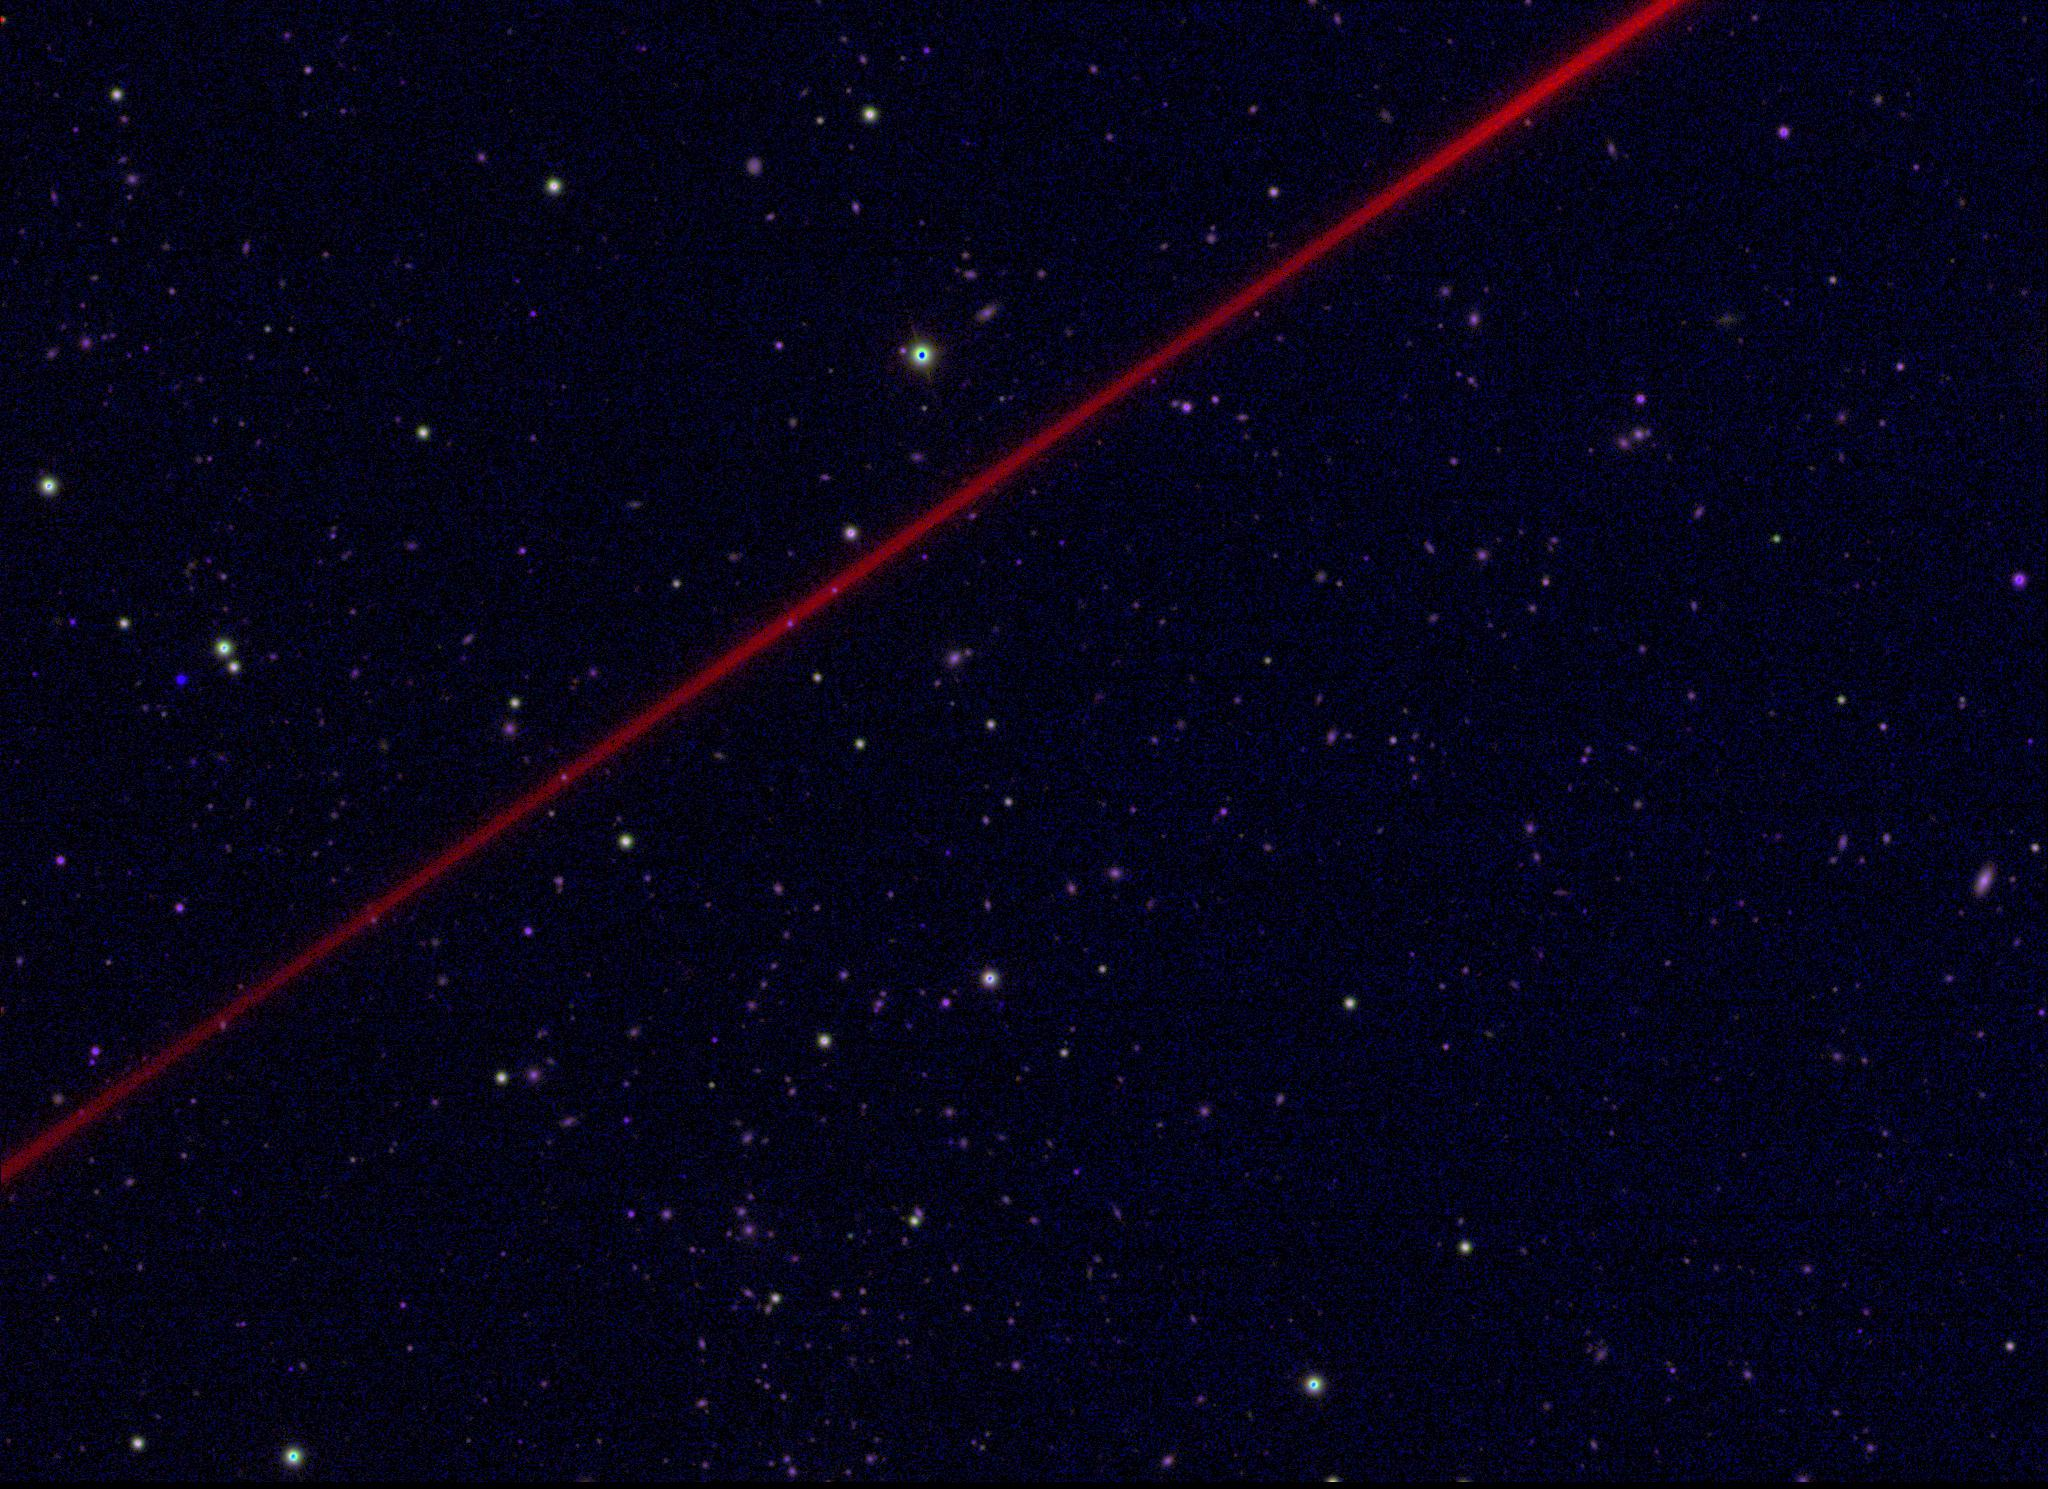L: (173, 676, 188, 690)
